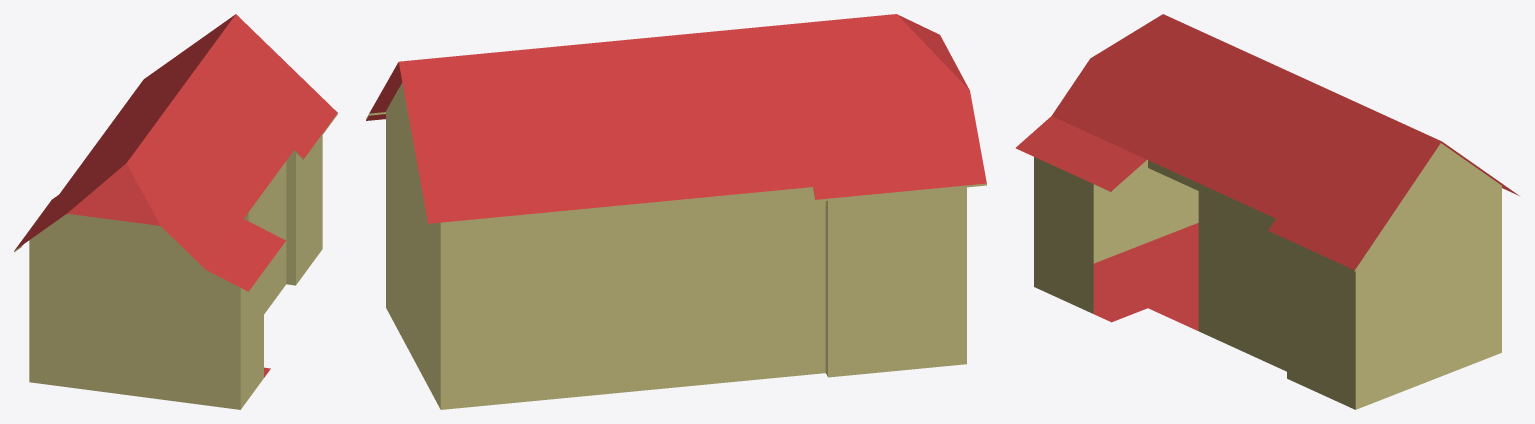
3 views of the same model, side by side, from view 1: azimuth 30°, elevation 25°; view 2: azimuth 150°, elevation 25°; view 3: azimuth 270°, elevation 25° (orthographic). The views are drawn at different scales.
Size of the model in its own units: 27.72 by 28.25 by 14.95.
